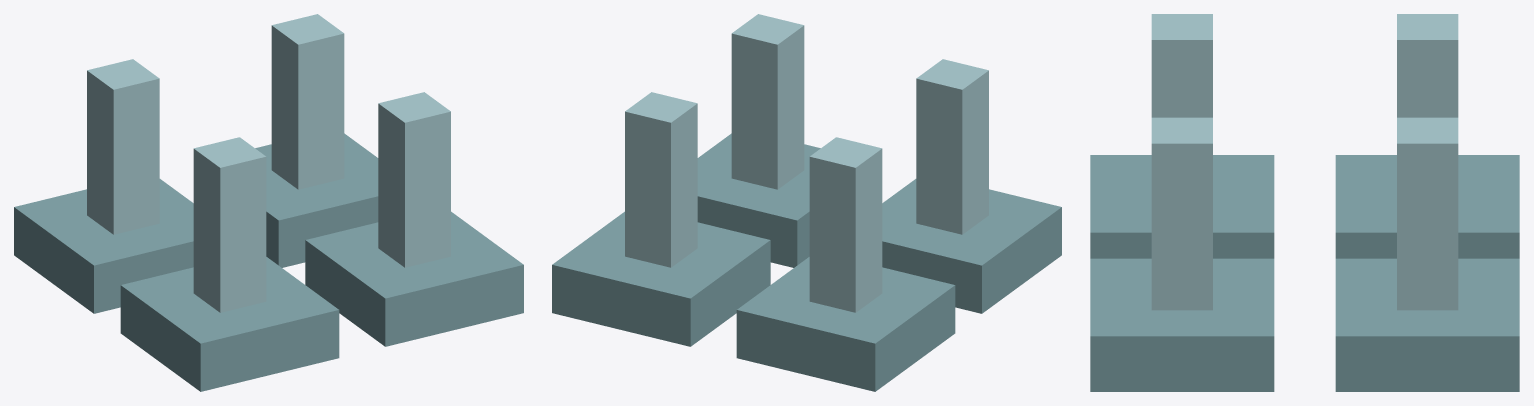
Rendered from fbSpikes.fbx.
3 views of the same model, side by side, from view 1: azimuth 30°, elevation 25°; view 2: azimuth 150°, elevation 25°; view 3: azimuth 270°, elevation 25° (orthographic). The views are drawn at different scales.
Visible parts, largest first — view 1: fbBrick_01_F1, fbBrick_01_F3; view 2: fbBrick_01_F1, fbBrick_01_F3; view 3: fbBrick_01_F1, fbBrick_01_F3.
Part boxes in pixels (bbox=[...]): fbBrick_01_F1: bbox=[14, 133, 523, 391]; fbBrick_01_F3: bbox=[87, 14, 450, 312]; fbBrick_01_F1: bbox=[552, 133, 1061, 391]; fbBrick_01_F3: bbox=[625, 14, 988, 312]; fbBrick_01_F1: bbox=[1090, 155, 1519, 391]; fbBrick_01_F3: bbox=[1151, 14, 1458, 310].
Size of the model in its own units: 70 by 40 by 70.
2 materials, 2 textured.
